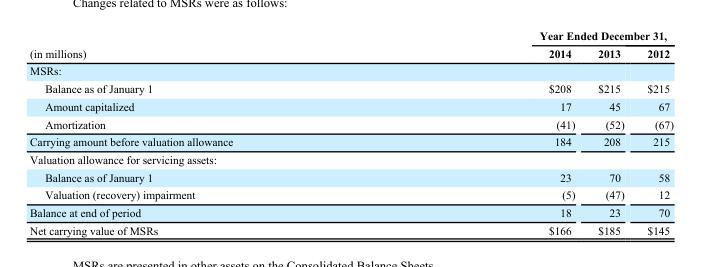table: (29, 29, 672, 236)
table column: (29, 29, 385, 236), (385, 29, 585, 236), (585, 29, 635, 236), (635, 29, 672, 236)
table column header: (29, 29, 672, 61)
table projected row header: (29, 61, 672, 79), (29, 150, 672, 167)
table row: (29, 61, 672, 79), (29, 79, 672, 97), (29, 114, 672, 132), (29, 132, 672, 150), (29, 167, 672, 185), (29, 185, 672, 203), (29, 44, 672, 61), (29, 97, 672, 114), (29, 150, 672, 167), (29, 203, 672, 220), (29, 220, 672, 236), (29, 29, 672, 44)
table spanning cell: (29, 29, 385, 61), (385, 29, 672, 44)
